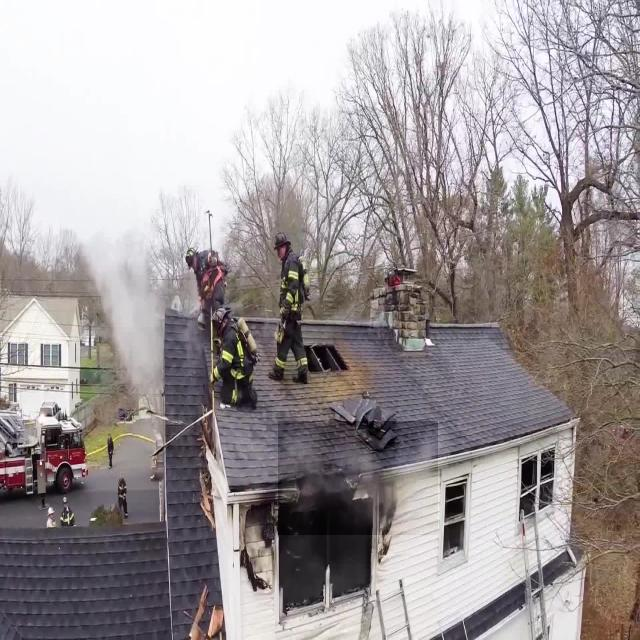Smoke: (278, 421, 438, 535)
